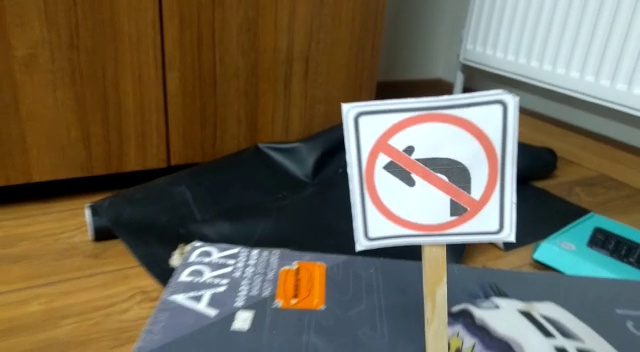sola_donulmez: (352, 98, 503, 249)
